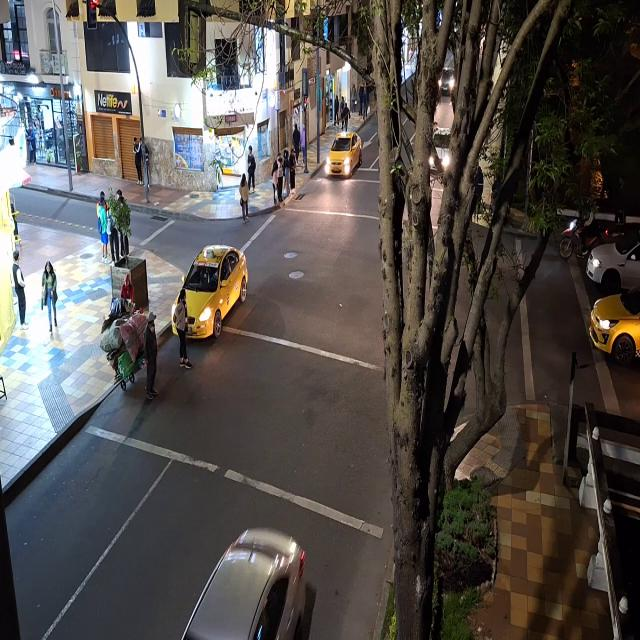MOTORCYCLE: (559, 221, 607, 263)
SED: (173, 248, 245, 338), (588, 287, 640, 352), (586, 236, 640, 286), (328, 133, 360, 176)
